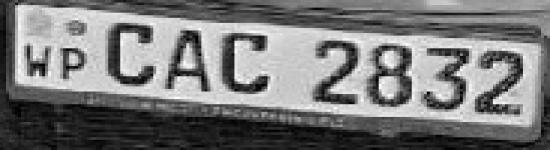2: (306, 33, 366, 109)
3: (470, 47, 529, 123), (420, 43, 472, 117)
8: (364, 40, 415, 110)
A: (165, 25, 213, 96)
C: (100, 18, 164, 90), (218, 29, 273, 98)
P: (55, 42, 91, 83)
W: (22, 38, 56, 84)
